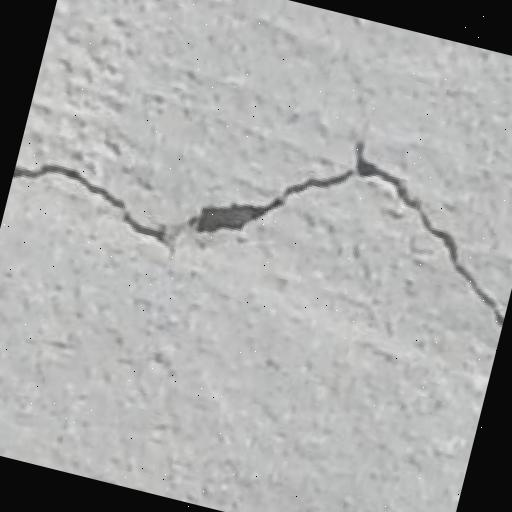spalling: (8, 141, 504, 330)
